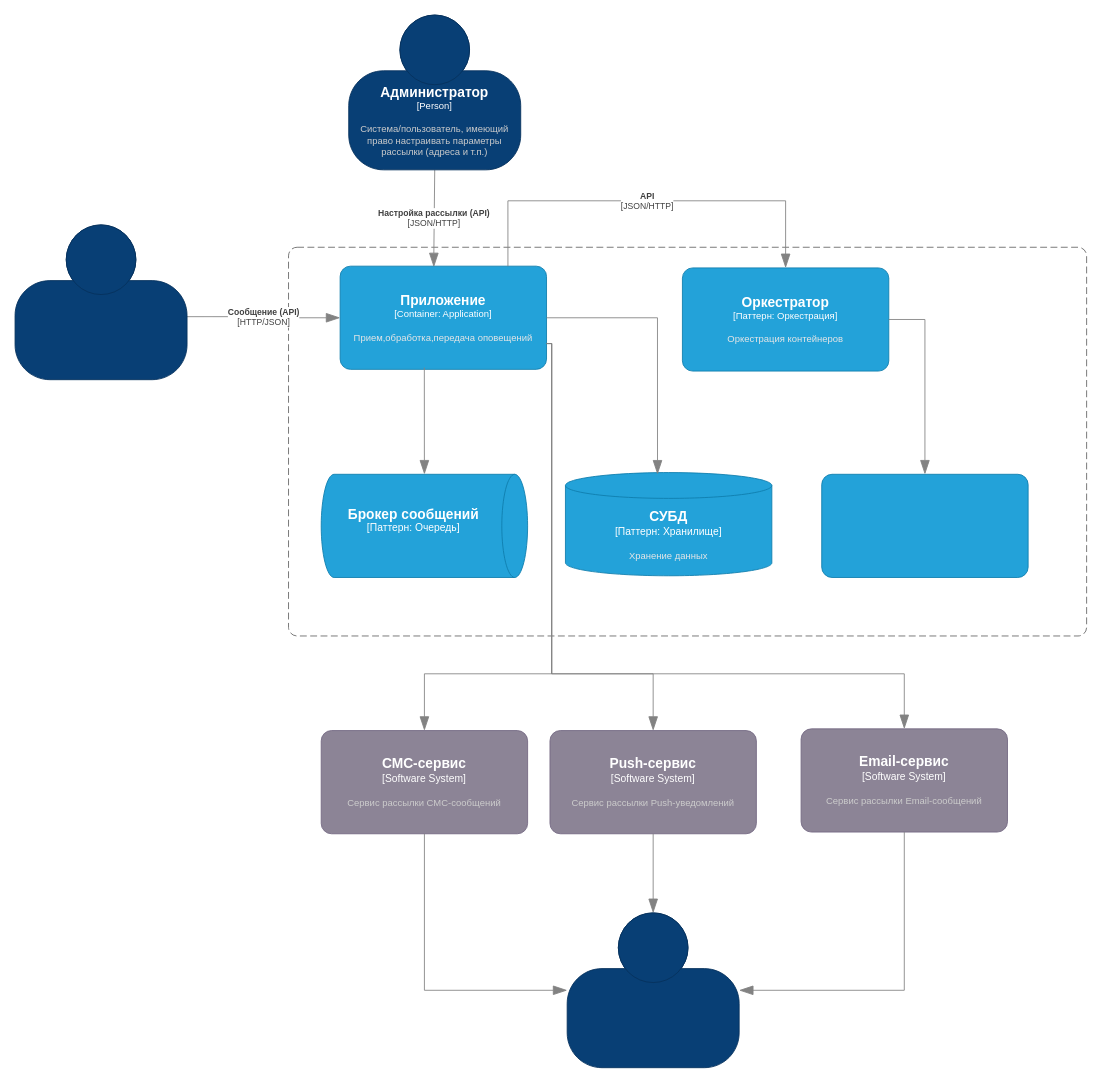
Image size: 1102x1083. Some labels were removed from this diagram. The shapes that lost their labels are listed below. From the top down, each one's box as (x1, y1, x2, y2) in pixels, then its label:
(14, 224, 187, 380): Отправитель [Person] Компоненты системы, которые хотят отправить сообщения
(288, 246, 1087, 636): Подсистема отправки оповещений [Software System]
(821, 473, 1028, 577): Контейниризация [Container: Docker] role/responsibility.
(566, 912, 739, 1068): Адресат [Person] Получатели уведомления
